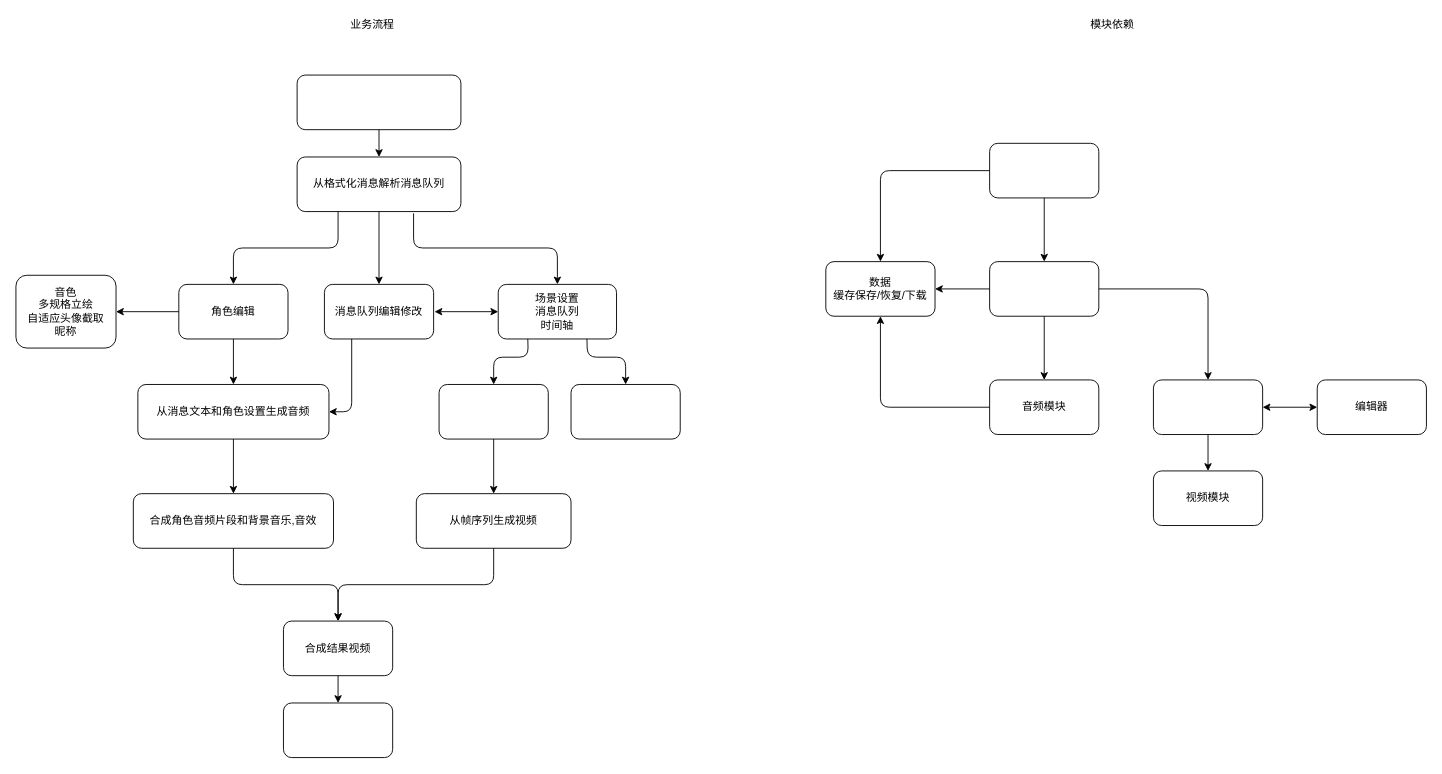
This 1442x774 diagram has some shape labels left out. Here are the shapes that lost their labels. From the top down, the centre of each, then its label:
(378,102): 从聊天记录解析为格式化消息
(1044,170): 场景,时间轴
(1044,288): 消息队列模块
(493,411): 离屏渲染器
(625,411): 播放/编辑器
(1208,407): 渲染器
(338,730): 回放,下载
